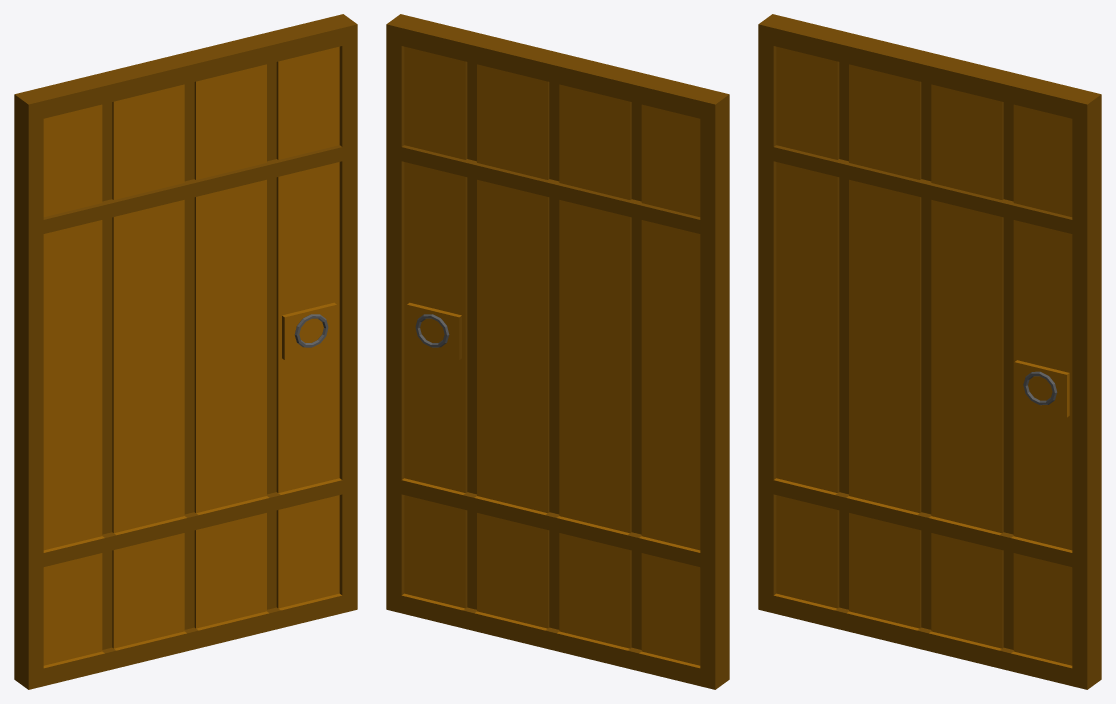
The model's file is Door_04.fbx.
3 views of the same model, side by side, from view 1: azimuth 30°, elevation 25°; view 2: azimuth 150°, elevation 25°; view 3: azimuth 330°, elevation 25° (orthographic).
Visible parts, largest first — view 1: Door_04; view 2: Door_04; view 3: Door_04.
Part boxes in pixels (x1,y1,x2,y2): Door_04: (14,14,357,689); Door_04: (386,14,729,689); Door_04: (758,14,1101,689).
Bounding box in the file's own units: 121 × 206 × 11.16.
